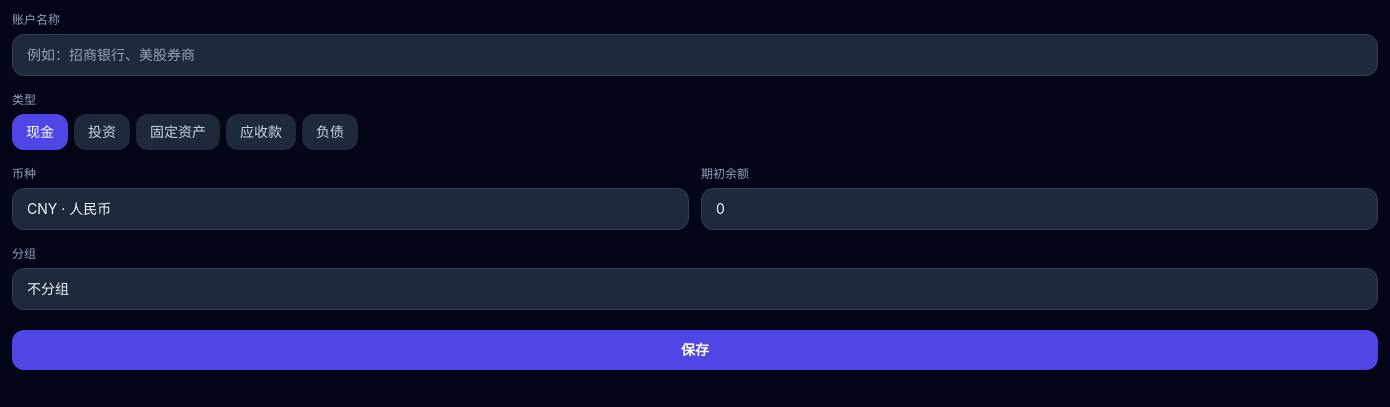
Test: AccountForm › explains that investment accounts track cash here and holdings separately
The width and height of the screenshot is (1390, 407).
Click the button "投资" at [102, 132], box 74,114 -> 130,150
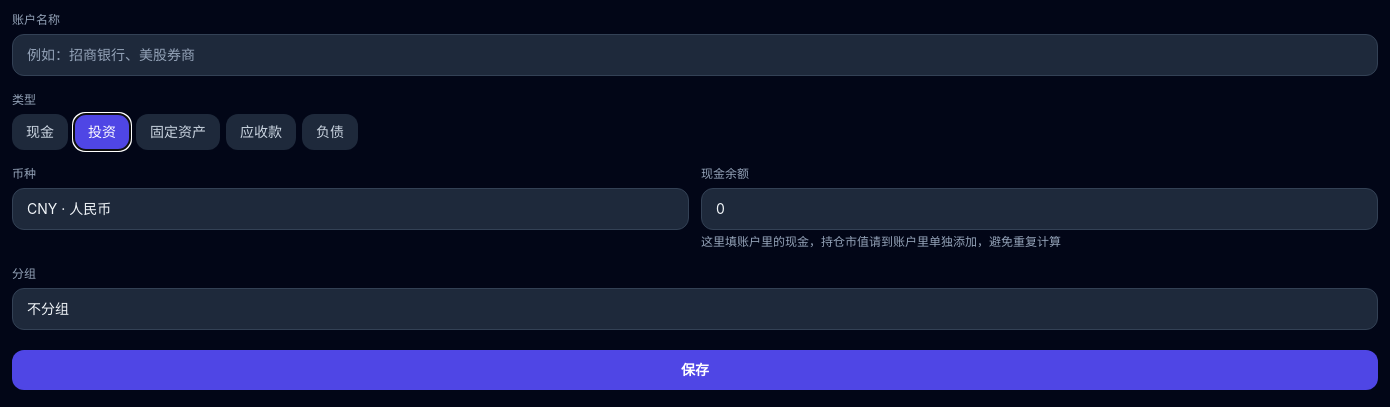
Expected: the number field labelled "现金余额" is shown, 701,188 -> 1378,230
Expected: the text "这里填账户里的现金，持仓市值请到账户里单独添加，避免重复计算" is shown, 701,234 -> 1061,249
